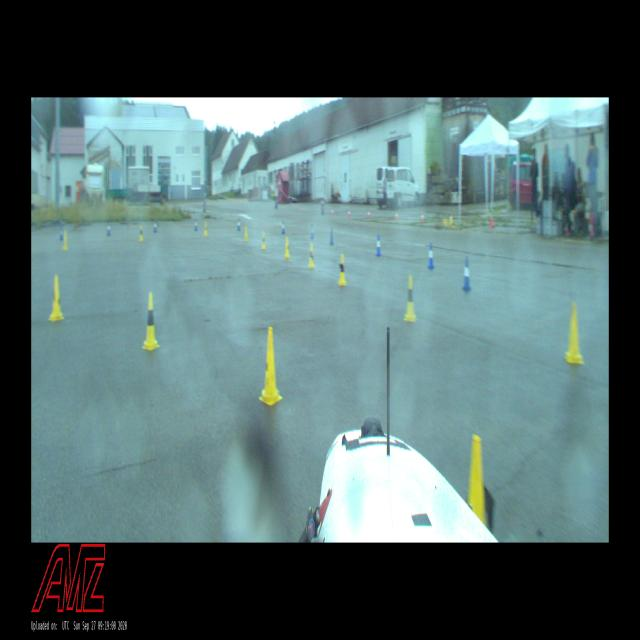blue_cone: (462, 256, 472, 292), (428, 244, 434, 269), (376, 235, 381, 256), (329, 228, 334, 245), (310, 223, 314, 239), (107, 221, 111, 236), (194, 218, 198, 232), (237, 217, 241, 230), (282, 219, 285, 233), (154, 220, 157, 232)
yellow_cone: (259, 327, 283, 406), (468, 435, 486, 526), (564, 303, 584, 364), (142, 293, 160, 350), (49, 274, 64, 320), (403, 276, 417, 322), (338, 255, 347, 286), (62, 230, 69, 250), (308, 244, 314, 267), (285, 238, 290, 259), (261, 231, 266, 249), (140, 226, 144, 242), (204, 222, 208, 236), (245, 225, 248, 241)
